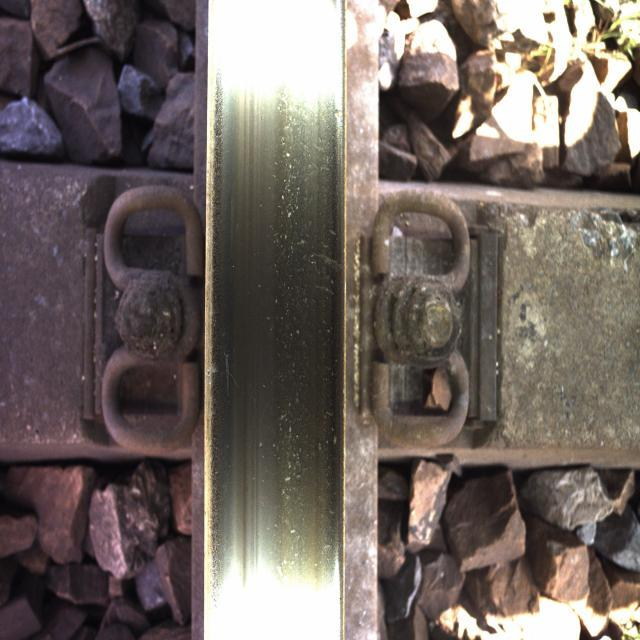normal: (224, 62, 331, 598)
